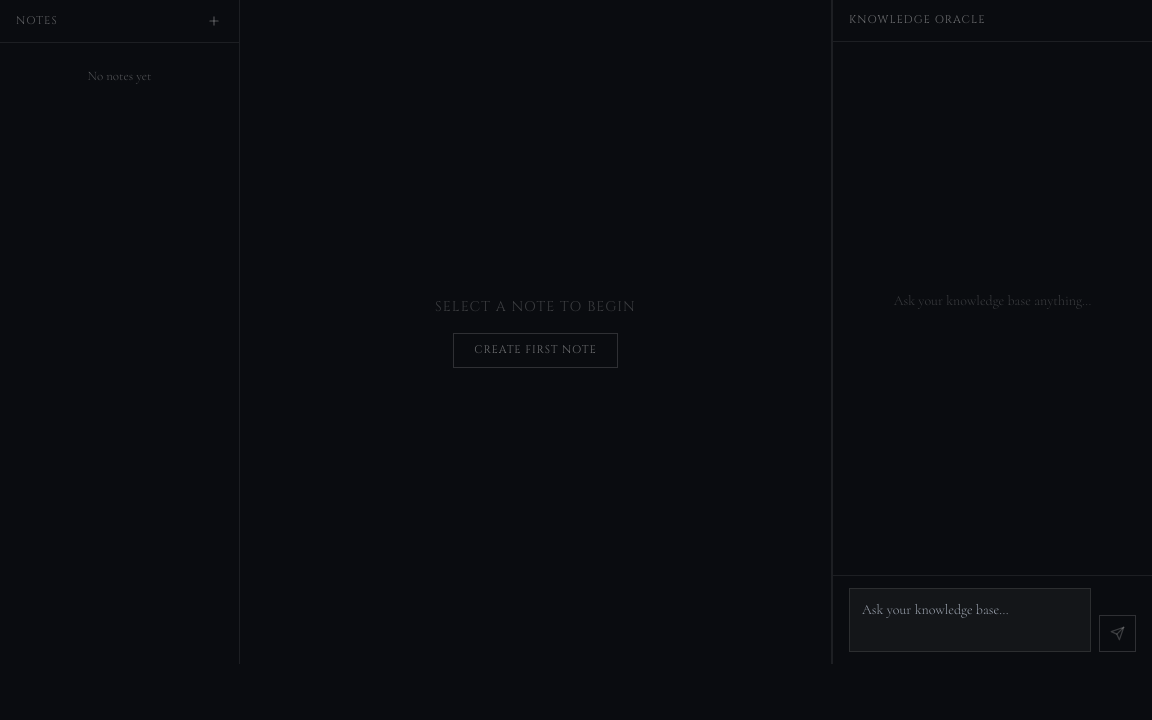
Scenario: KnowledgeShell — note creation modal › opens create modal when Plus button is clicked
Click the button titled "New note" at [214, 21], box [205,12,223,30]
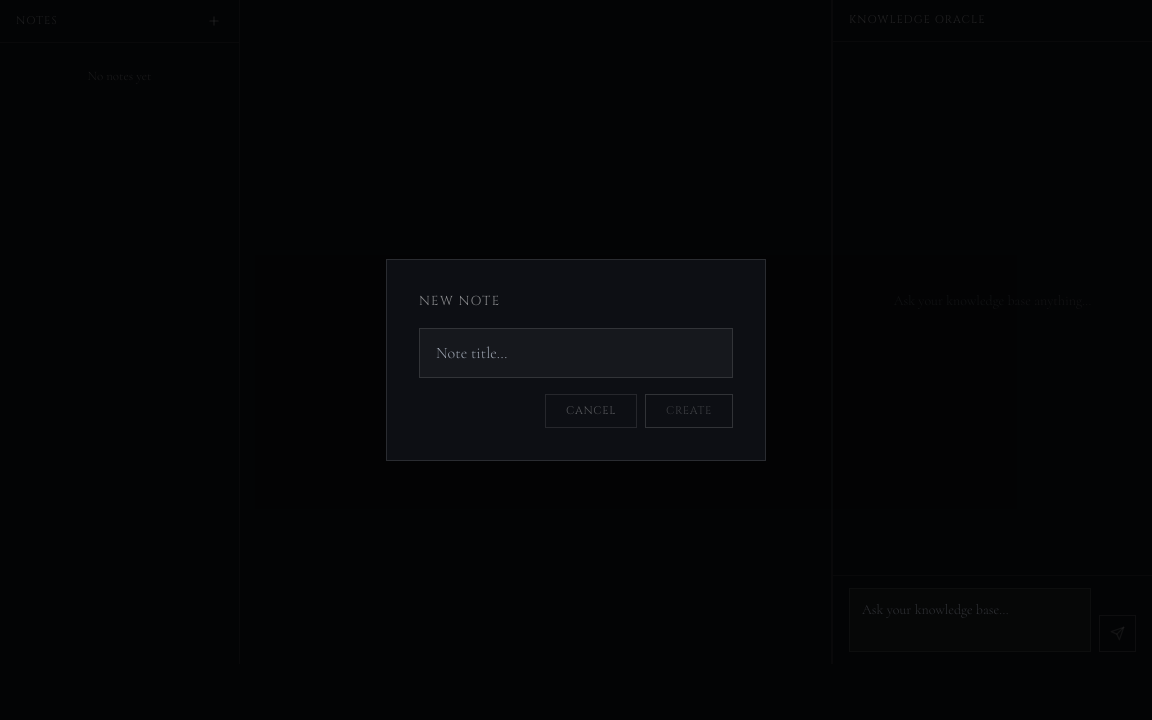
Now the field with placeholder "Note title…" is shown, box [419,328,733,378]
